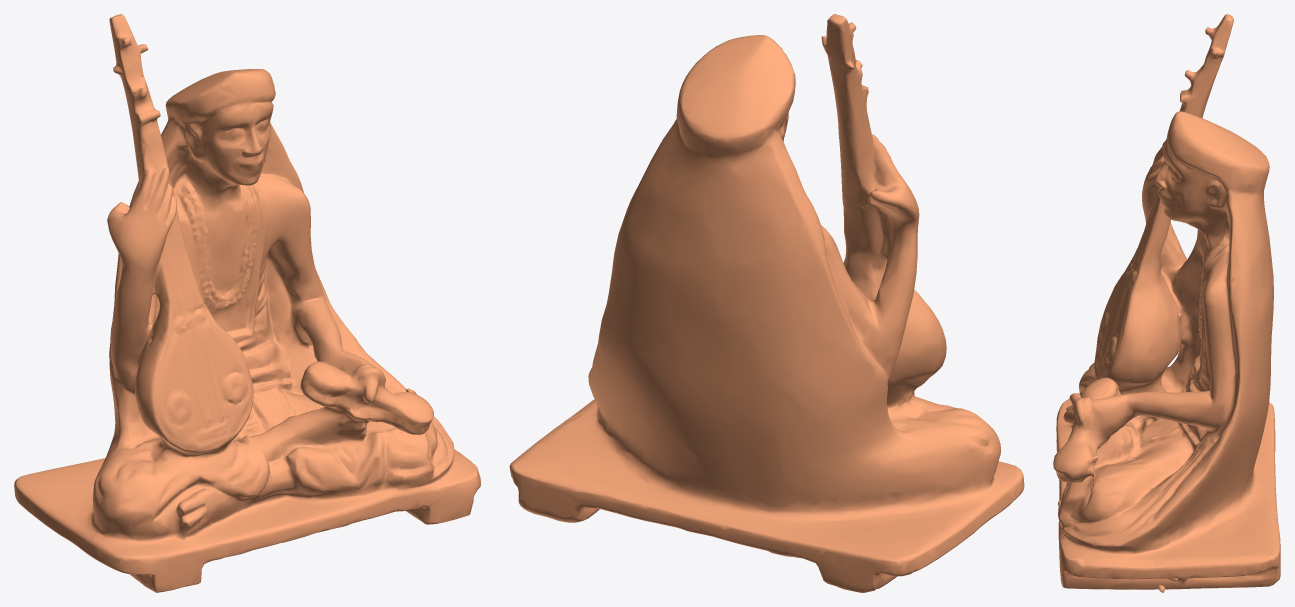
The model's file is Sidhargal_&_Munivargal_Thiyagarajar_02.glb.
The picture shows the model from 3 angles, left to right: view 1: azimuth 30°, elevation 25°; view 2: azimuth 150°, elevation 25°; view 3: azimuth 270°, elevation 25°; orthographic projection. The views are drawn at different scales.
Visible parts, largest first — view 1: Sidhargal_&_Munivargal_Thiyagarajar_02; view 2: Sidhargal_&_Munivargal_Thiyagarajar_02; view 3: Sidhargal_&_Munivargal_Thiyagarajar_02.
Boxes of the visible parts, x1,y1,x2,y2 form: Sidhargal_&_Munivargal_Thiyagarajar_02: (14,14,480,592); Sidhargal_&_Munivargal_Thiyagarajar_02: (509,14,1024,592); Sidhargal_&_Munivargal_Thiyagarajar_02: (1053,14,1280,592).
Size of the model in its own units: 0.3414 by 0.4326 by 0.1952.
